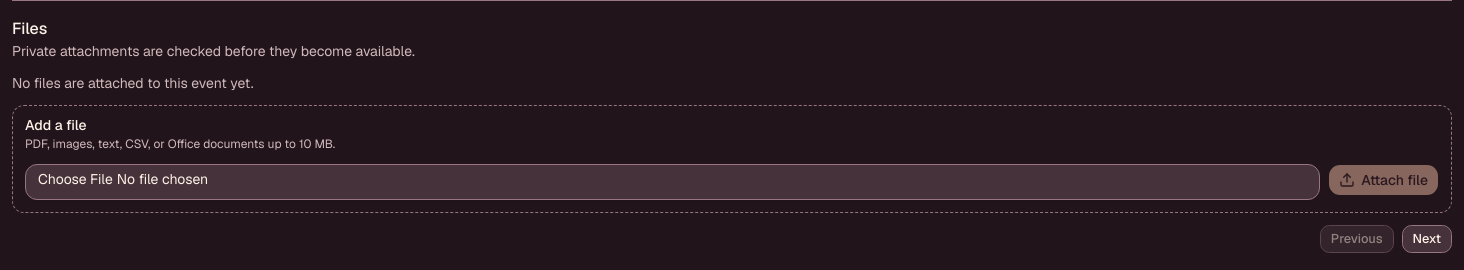
Test case: EventFilesPanel real API states › keeps a previous-page escape after a later page becomes empty
Click the button "Next" at [1427, 239], box x1=1402 y1=225 x2=1452 y2=253
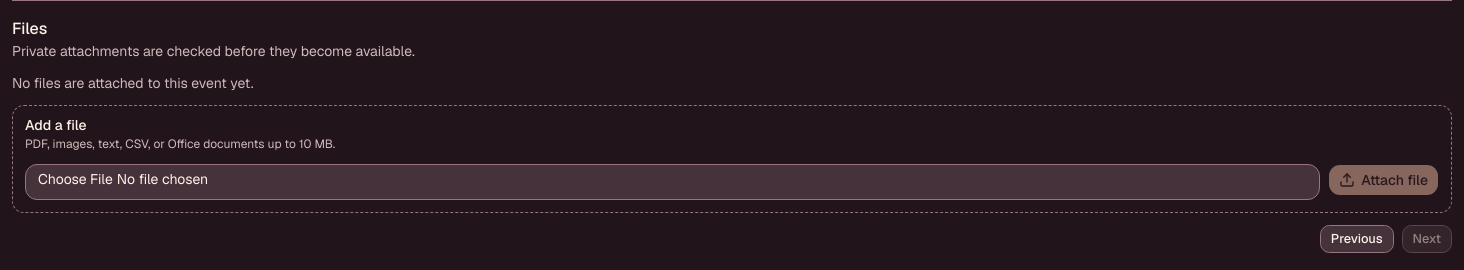
Result: the button "Previous" is enabled at x1=1320 y1=225 x2=1394 y2=253
